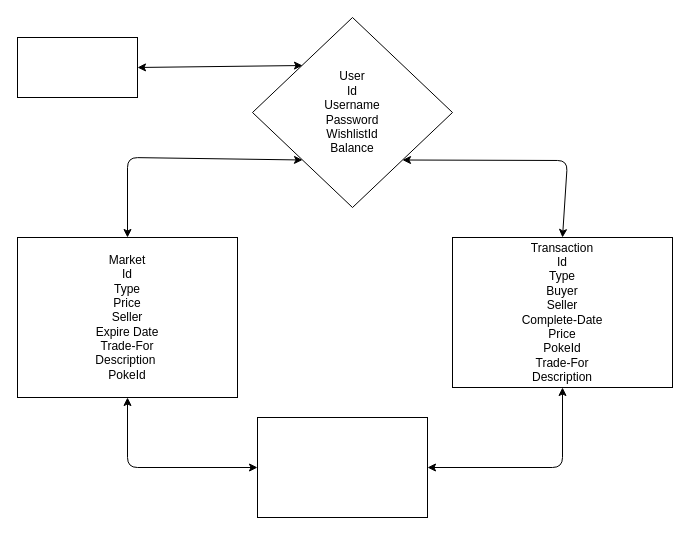
Image size: 690x535. Some labels were removed from this diagram. The shapes that lost their labels are listed below. From the top down, each one's centre as x and y in pixels, then its label:
[77,67]: Wishlist WishListId UserId PokeId
[342,467]: Pokemon Id Name
